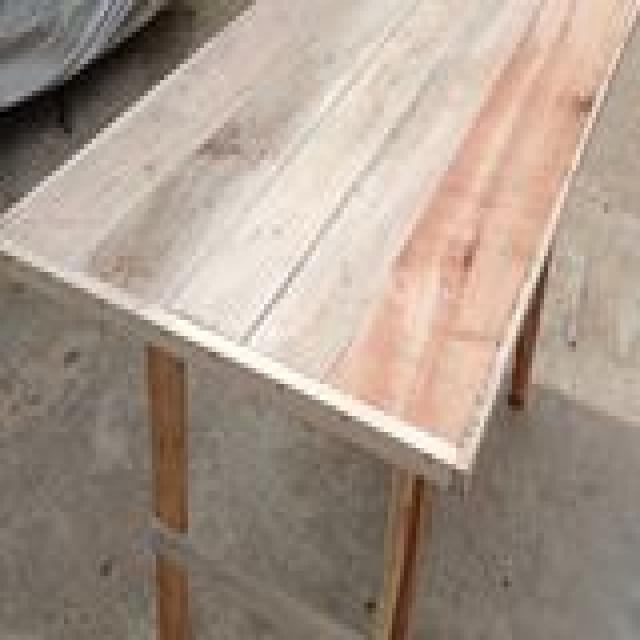others: (4, 5, 636, 640)
